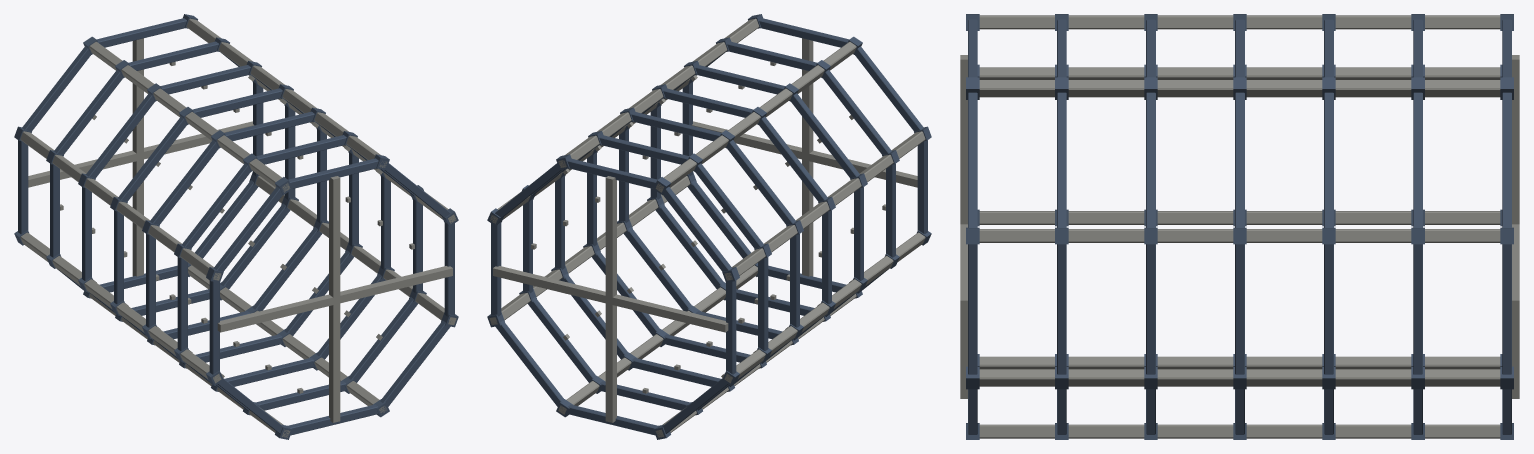
File: kc1000_frame.obj
The picture shows the model from 3 angles, left to right: view 1: azimuth 30°, elevation 25°; view 2: azimuth 150°, elevation 25°; view 3: azimuth 270°, elevation 25°; orthographic projection. The views are drawn at different scales.
Parts seen in each view (by area): view 1: kc1000_frame; view 2: kc1000_frame; view 3: kc1000_frame.
Boxes of the visible parts, bbox=[...] form: kc1000_frame: bbox=[14, 14, 458, 439]; kc1000_frame: bbox=[487, 14, 931, 439]; kc1000_frame: bbox=[960, 14, 1519, 439].
Bounding box in the file's own units: 8.9 × 8.9 × 12.46.
